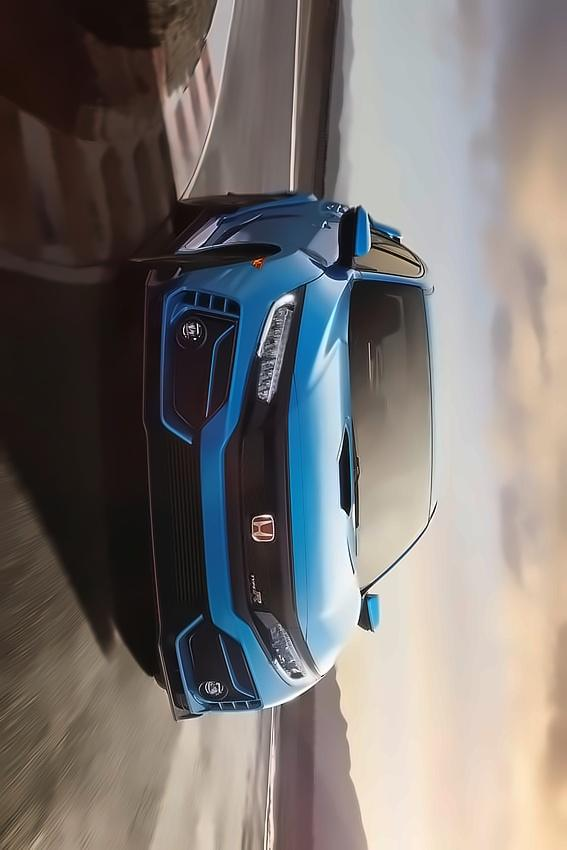Car hood: (284, 261, 363, 676)
Driver-s door - -F-R-: (206, 211, 432, 271)
Front bumper: (129, 255, 278, 724)
Headlight - -L-: (238, 603, 317, 695)
Headlight - -R-: (253, 281, 301, 420)
Side bumper - -R-: (166, 201, 225, 263)
Side mirror - -L-: (351, 575, 386, 638)
Side mirror - -R-: (338, 195, 383, 268)
